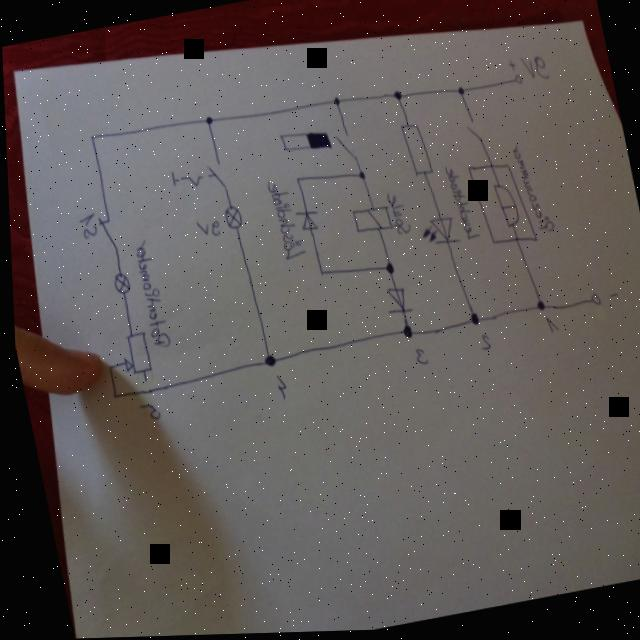diode: (415, 215, 457, 250), (382, 286, 409, 317), (295, 208, 319, 236)
inductor: (350, 203, 393, 237)
junction: (397, 323, 413, 344), (260, 353, 274, 370), (466, 313, 479, 329), (381, 262, 394, 277), (392, 91, 404, 104), (532, 301, 544, 314), (203, 114, 215, 127), (331, 96, 342, 109), (455, 86, 466, 99), (356, 171, 366, 183), (88, 131, 96, 143), (317, 269, 324, 279), (293, 176, 301, 184), (108, 393, 116, 400), (105, 363, 109, 369)
resistor: (116, 329, 154, 386), (399, 121, 433, 180)
switch: (167, 159, 229, 200), (95, 213, 118, 254), (333, 130, 358, 166), (463, 118, 483, 147)
terminal: (586, 294, 602, 311), (512, 74, 525, 89)
text: (128, 236, 172, 353), (509, 141, 554, 239), (264, 176, 306, 264), (444, 163, 478, 245), (386, 192, 411, 241), (517, 54, 551, 87), (194, 217, 222, 241), (75, 211, 98, 240), (269, 373, 288, 404), (139, 401, 158, 422), (543, 317, 560, 338), (411, 347, 427, 367), (476, 333, 490, 354)
